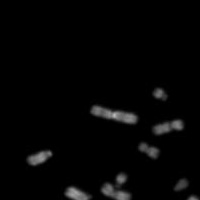chromosome: (89, 104, 137, 126), (152, 119, 185, 136), (102, 182, 132, 200), (25, 148, 52, 166), (139, 139, 159, 160), (66, 187, 91, 200), (113, 172, 127, 189), (152, 88, 169, 102), (173, 195, 198, 200)
